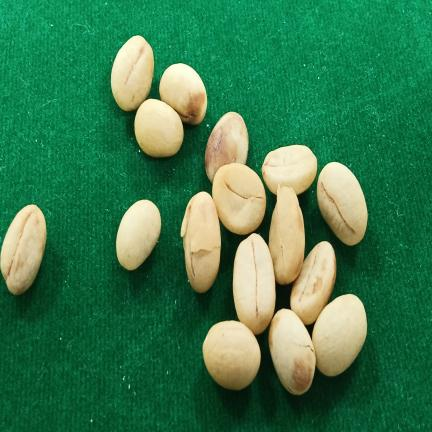parchment: (312, 294, 367, 376), (233, 233, 276, 334), (317, 162, 368, 245), (0, 204, 46, 295), (269, 309, 316, 395), (181, 191, 221, 292), (203, 321, 260, 390), (290, 241, 336, 325), (212, 163, 266, 234), (269, 185, 305, 285), (111, 35, 154, 111), (116, 200, 161, 270), (205, 112, 248, 184), (159, 63, 207, 125), (134, 99, 183, 157), (262, 145, 317, 195)
